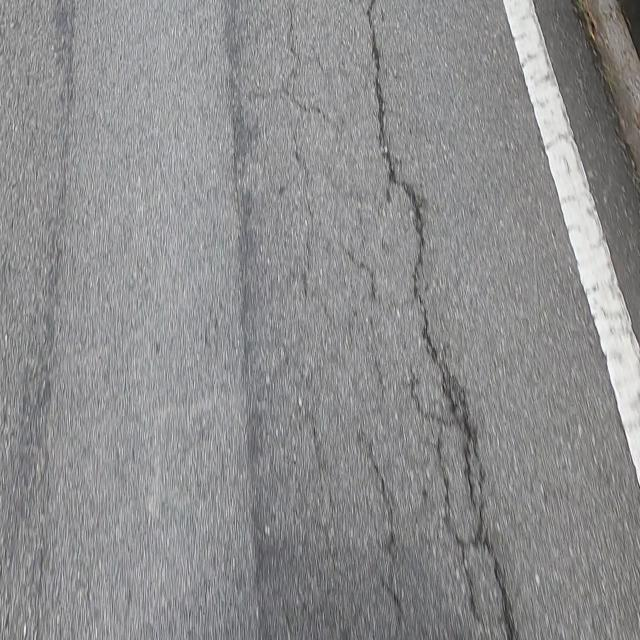Retak-Memanjang: (364, 3, 514, 638), (406, 378, 480, 626), (365, 453, 408, 626)
